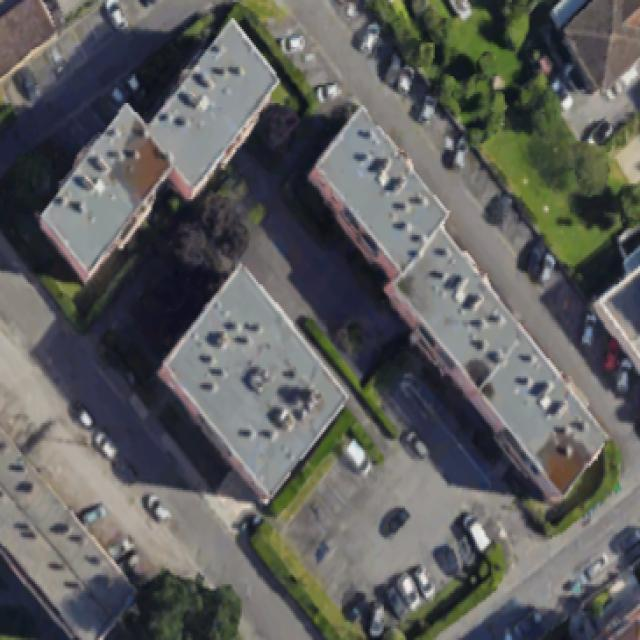immeuble: (147, 264, 368, 498), (125, 18, 296, 205), (369, 220, 537, 400), (454, 329, 621, 505), (294, 107, 460, 281), (30, 105, 186, 275)
